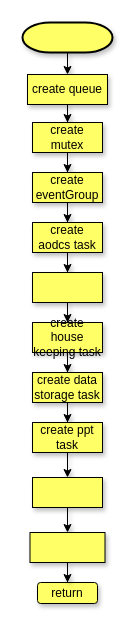
Some shapes in this 136 by 628 pixel diagram are drawn without their labels. Each missing label, with the centre of its shape:
"create camera task" goes at (68,289).
"create ttc task" goes at (68,493).
"create watchdog task" goes at (68,549).
"task create" goes at (68,38).
